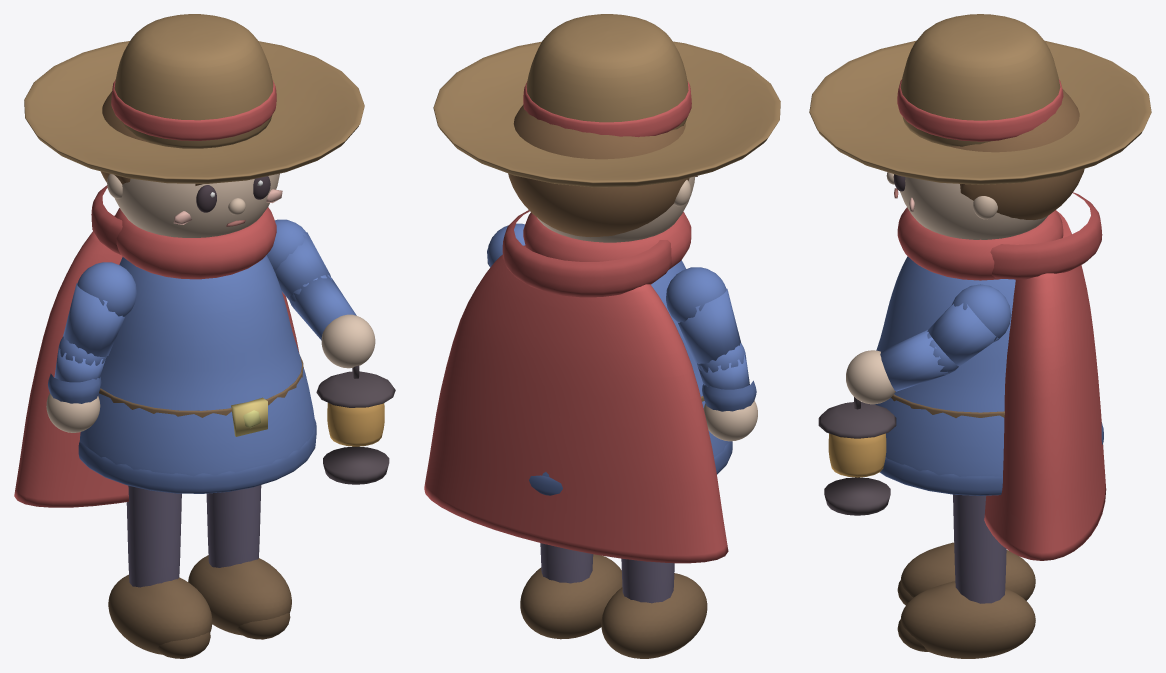
The model's file is hero_warden.glb.
The picture shows the model from 3 angles, left to right: view 1: azimuth 30°, elevation 25°; view 2: azimuth 150°, elevation 25°; view 3: azimuth 270°, elevation 25°; orthographic projection.
Visible parts, largest first — view 1: hero_warden; view 2: hero_warden; view 3: hero_warden.
Part boxes in pixels (x1,y1,x2,y2): hero_warden: (14,14,395,658); hero_warden: (424,14,780,658); hero_warden: (809,14,1151,658).
Size of the model in its own units: 1.02 by 1.98 by 1.02.
